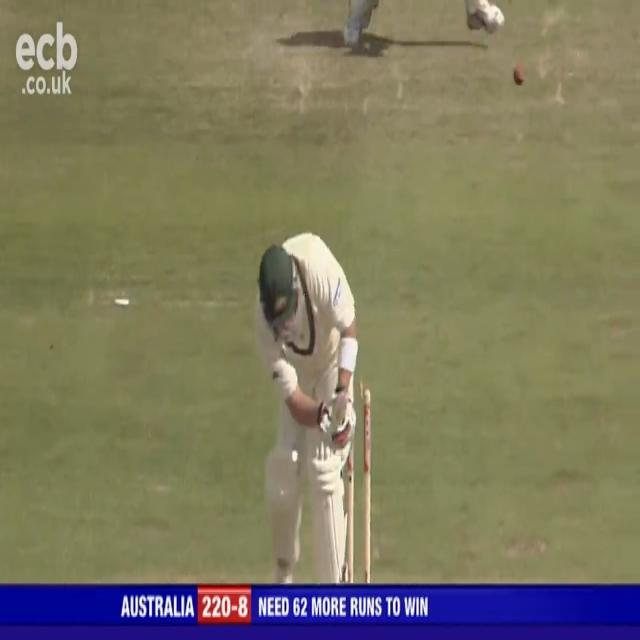ball: (509, 59, 528, 89)
